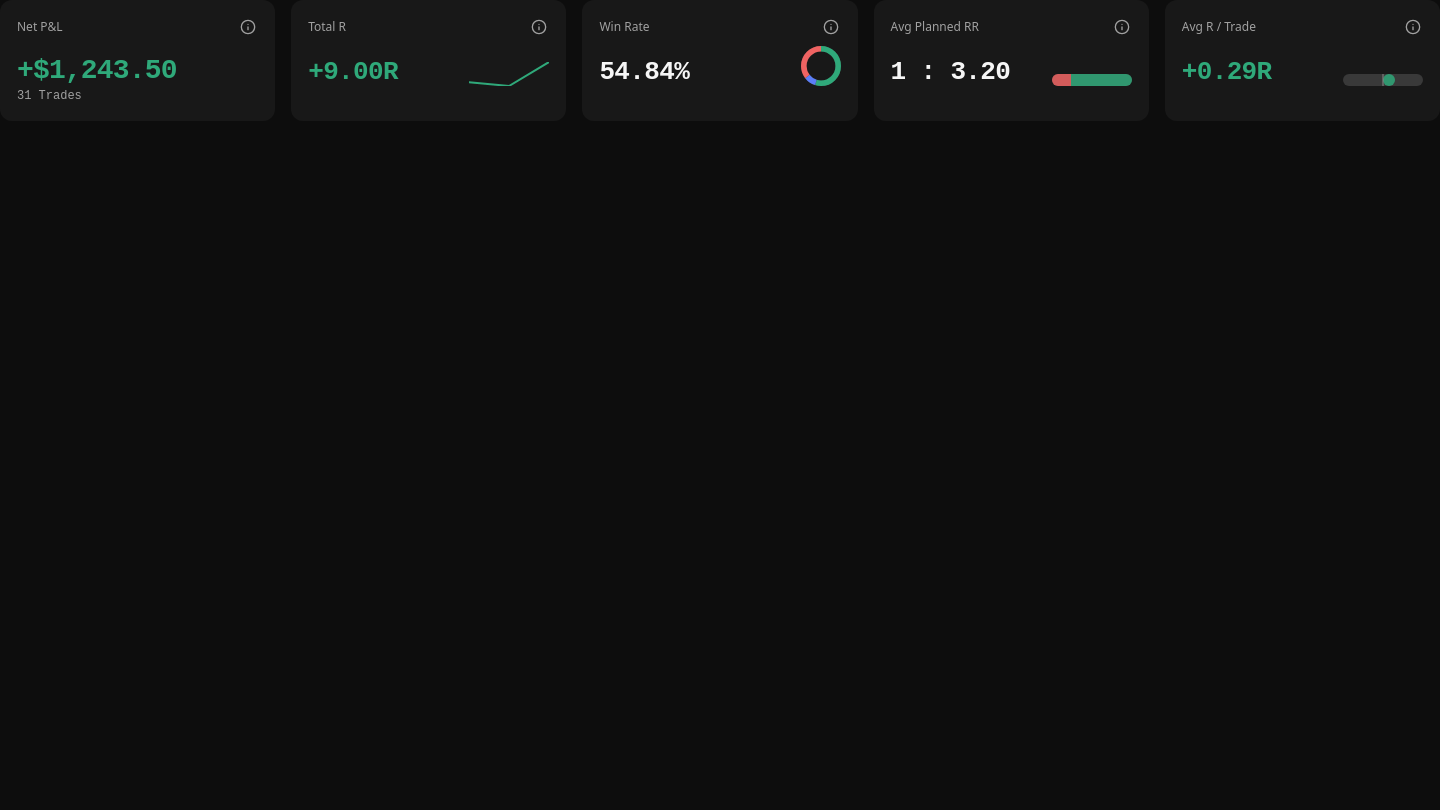
Scenario: BasicKpiRow › explains the planned ratio as a sentence and states what it averaged
Click the button named "Show Avg Planned RR detail". click: (1092, 80)
box: x1=1046 y1=68 x2=1138 y2=92
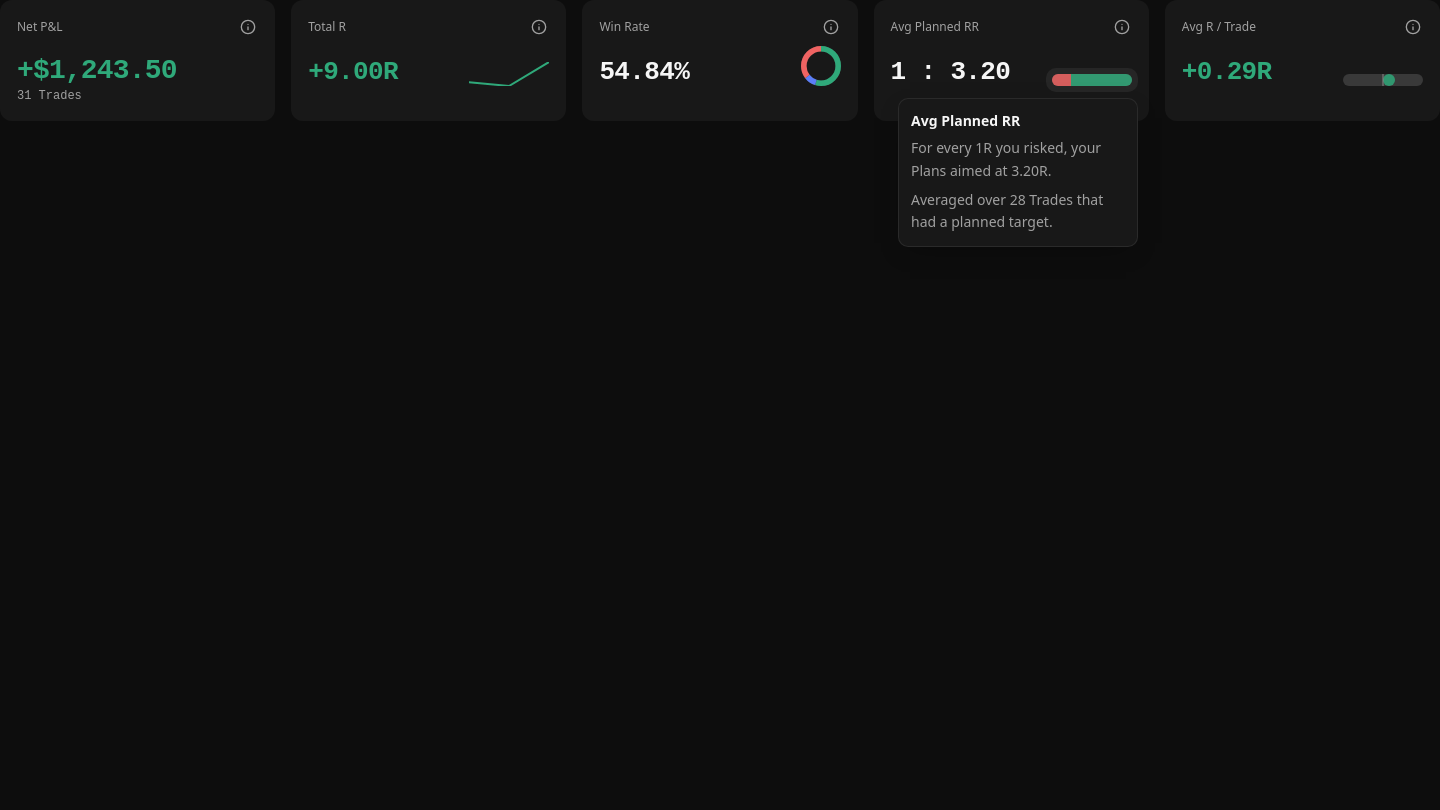
Expected: the text "For every 1R you risked, your Plans aimed at 3.20R." is shown, x1=911 y1=137 x2=1125 y2=182
Expected: the text "Averaged over 28 Trades that had a planned target." is shown, x1=911 y1=188 x2=1125 y2=234
